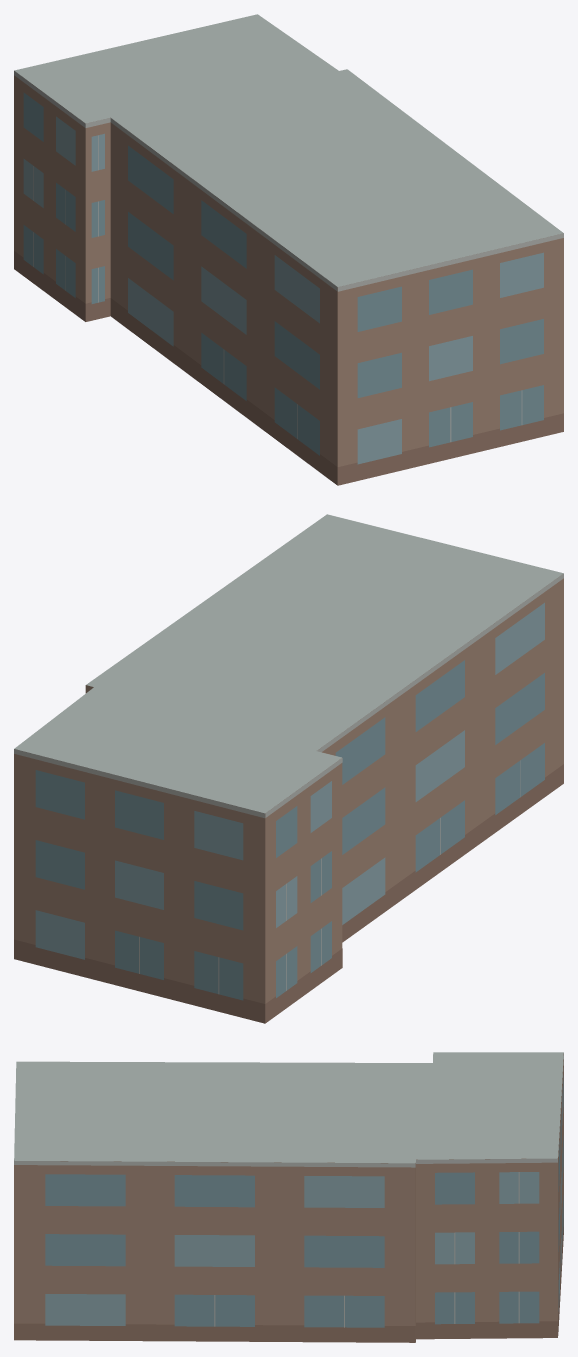
Rendered from survey-upis-32494967.glb.
3 views of the same model, one above another, from view 1: azimuth 30°, elevation 25°; view 2: azimuth 150°, elevation 25°; view 3: azimuth 270°, elevation 25° (orthographic). The views are drawn at different scales.
Parts seen in each view (by area): view 1: survey-upis-32494967.tmp; view 2: survey-upis-32494967.tmp; view 3: survey-upis-32494967.tmp.
Boxes of the visible parts, left/top/right/bottom form: survey-upis-32494967.tmp: left=14, top=14, right=563, bottom=485; survey-upis-32494967.tmp: left=14, top=514, right=563, bottom=1023; survey-upis-32494967.tmp: left=14, top=1052, right=563, bottom=1342.
Size of the model in its own units: 13.83 by 10.4 by 28.88.
